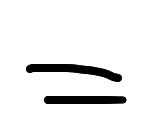eqv: (26, 64, 127, 104)
